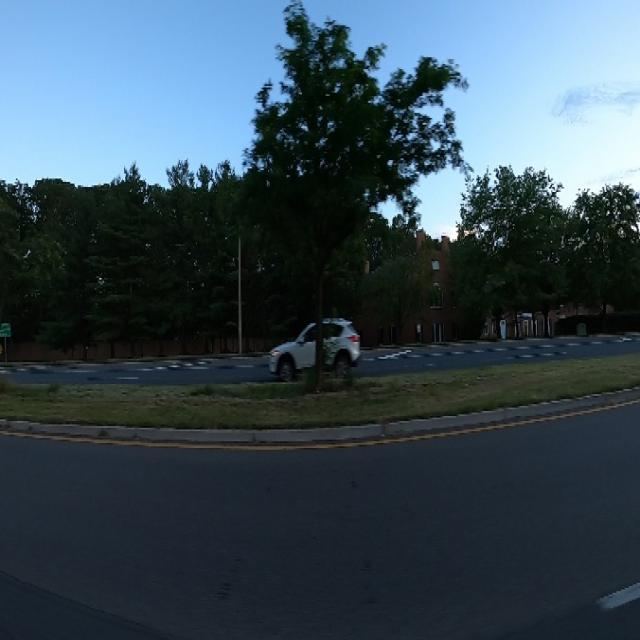car: (264, 317, 370, 389)
